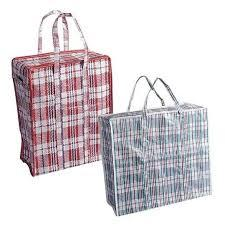Plastic bag: (5, 3, 120, 182), (103, 66, 218, 219)
